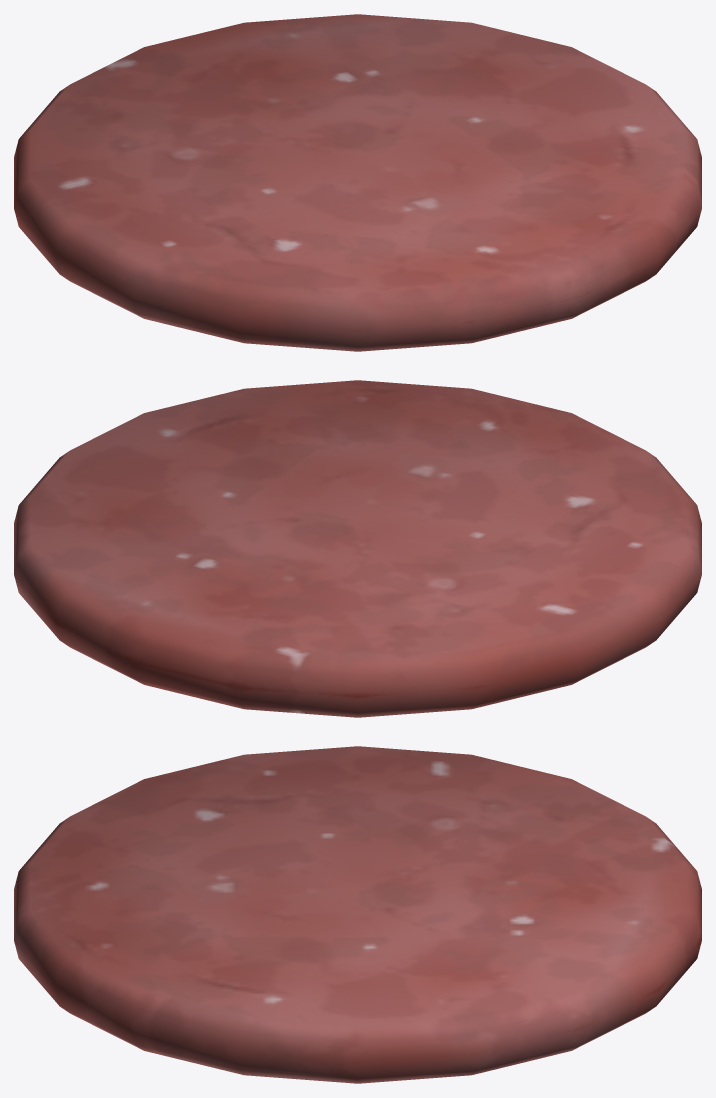
The model's file is beefburger.FBX.
3 views of the same model, one above another, from view 1: azimuth 30°, elevation 25°; view 2: azimuth 150°, elevation 25°; view 3: azimuth 270°, elevation 25° (orthographic).
Parts seen in each view (by area): view 1: beefburger; view 2: beefburger; view 3: beefburger.
Part boxes in pixels (left/top/right/bottom): beefburger: left=14, top=14, right=701, bottom=351; beefburger: left=14, top=380, right=701, bottom=717; beefburger: left=14, top=746, right=701, bottom=1083.
Bounding box in the file's own units: 20.28 × 1.81 × 19.97.
